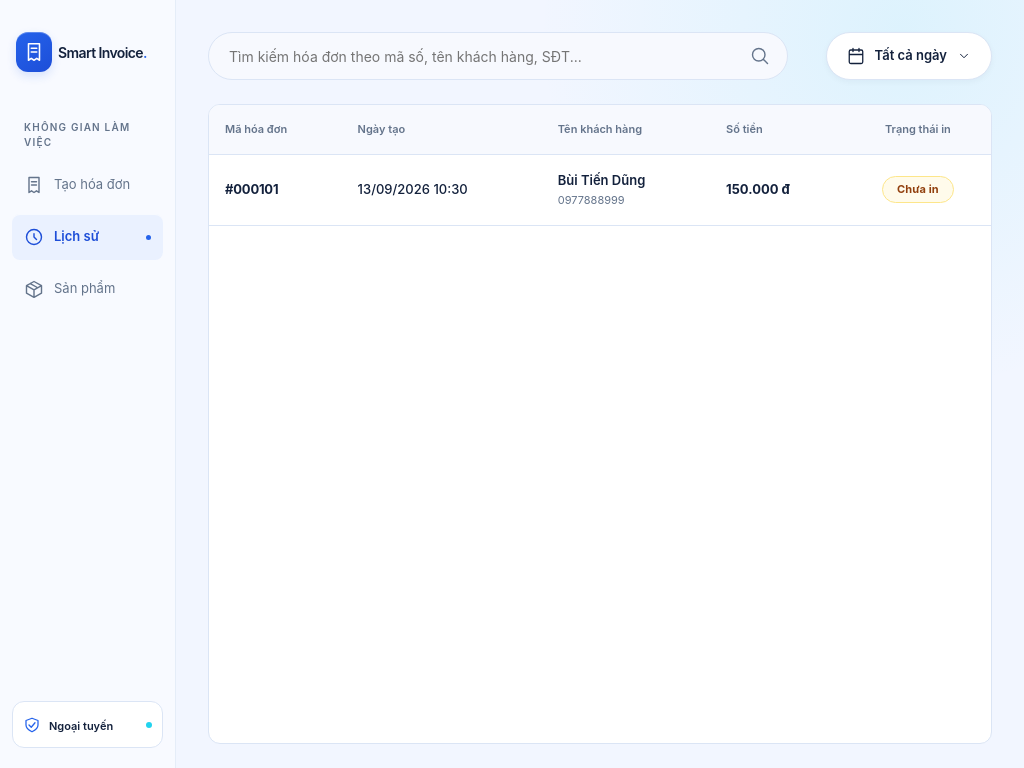
Test case: InvoiceHistoryScreen › clicking an invoice row opens the A5 receipt preview modal
// Click dòng hóa đơn
Click the text "#000101" at (275, 190), box [209,154,342,225]
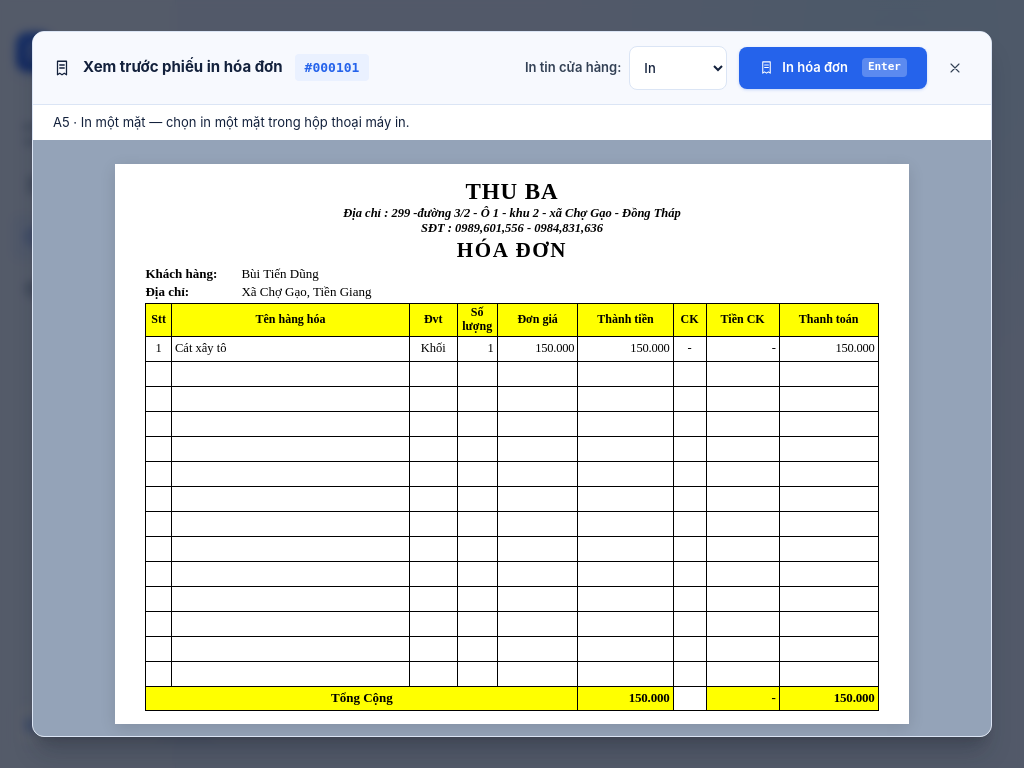
Result: the heading "Xem trước phiếu in hóa đơn" is shown at [83,56,283,79]
Result: the heading "THU BA" is shown at [466,179,559,204]
Result: the text "Bùi Tiến Dũng" is shown at [241,266,319,282]
